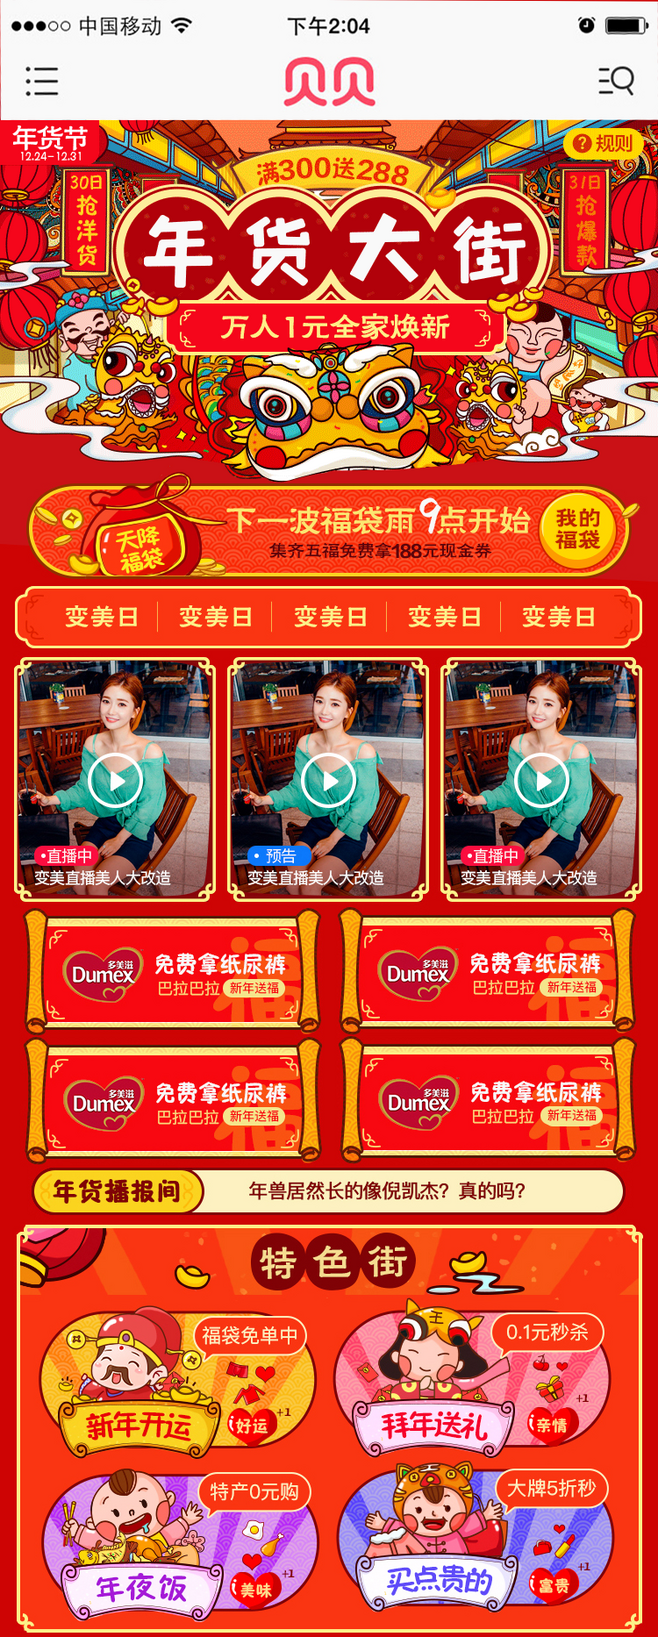floors: (1, 588, 658, 1163), (1, 1218, 658, 1634)
toutu: (1, 121, 658, 584)
